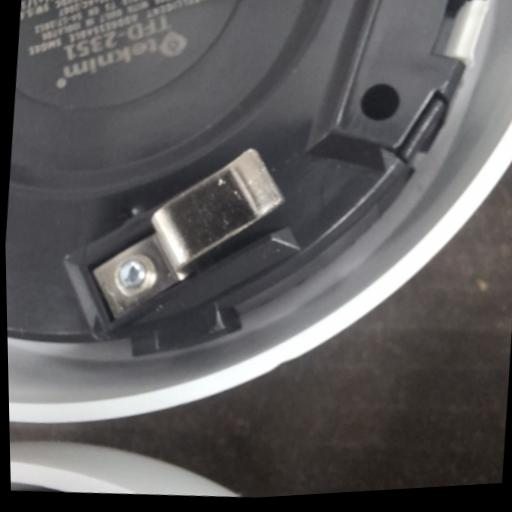yaysiz: (79, 134, 293, 341)
